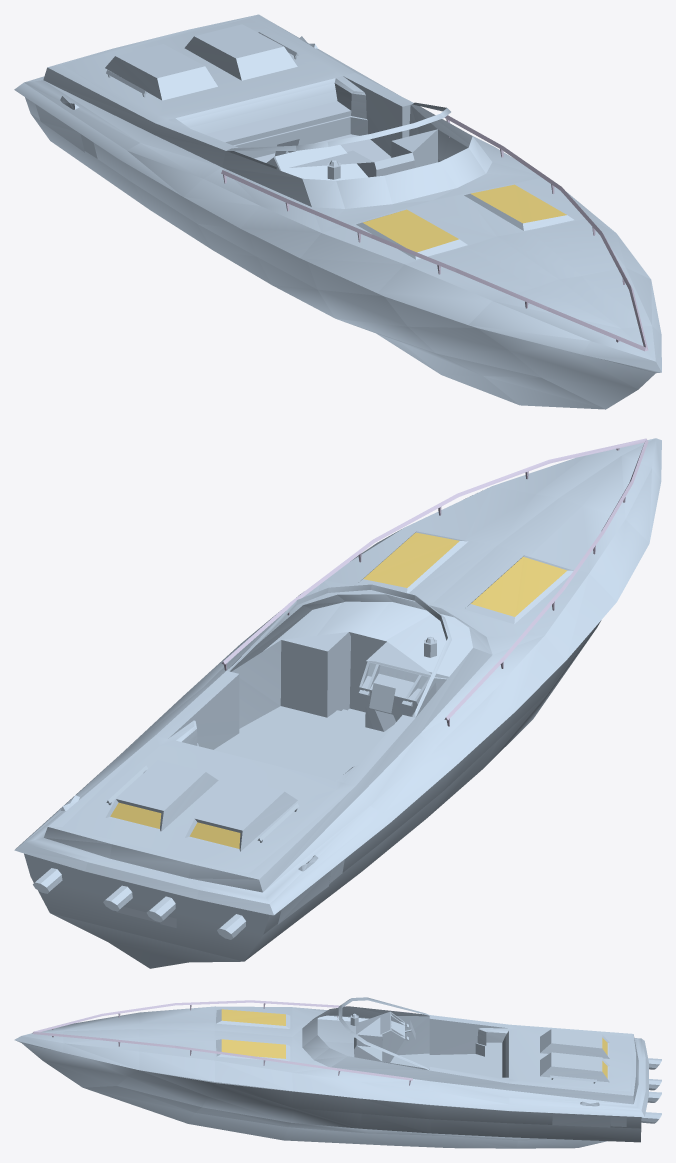
File: Boat-scaled-hull.glb
3 views of the same model, one above another, from view 1: azimuth 30°, elevation 25°; view 2: azimuth 150°, elevation 25°; view 3: azimuth 270°, elevation 25° (orthographic). The views are drawn at different scales.
Parts seen in each view (by area): view 1: boat.001; view 2: boat.001; view 3: boat.001.
Part boxes in pixels (box(x1,y1,x2,y2)): boat.001: box(14, 14, 661, 409); boat.001: box(14, 438, 661, 968); boat.001: box(14, 997, 661, 1148).
Size of the model in its own units: 2.72 by 2.13 by 9.13.
